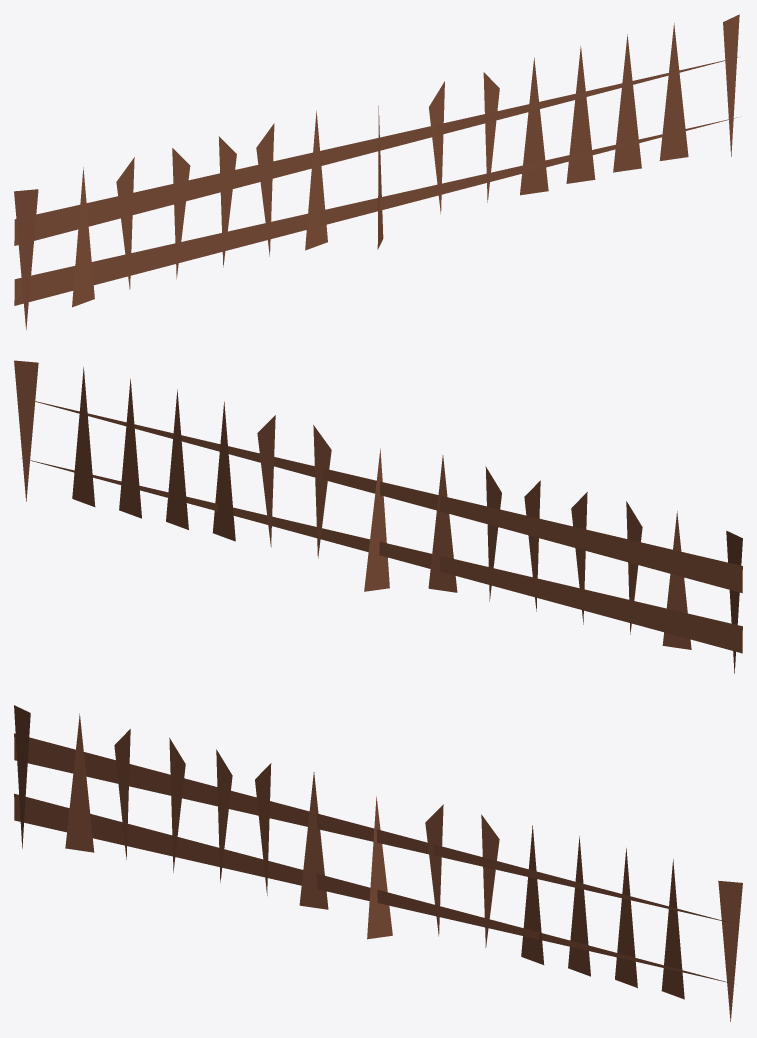
File: Fence2.lod3.glb
3 views of the same model, one above another, from view 1: azimuth 30°, elevation 25°; view 2: azimuth 150°, elevation 25°; view 3: azimuth 330°, elevation 25° (orthographic).
Parts seen in each view (by area): view 1: Fence2; view 2: Fence2; view 3: Fence2.
Part boxes in pixels (x1,y1,x2,y2): Fence2: (14, 14, 739, 330); Fence2: (14, 360, 742, 673); Fence2: (14, 705, 742, 1021).
Bounding box in the file's own units: 5.89 × 1.17 × 0.1419.
